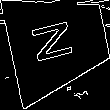N_E: (32, 18, 84, 68)
